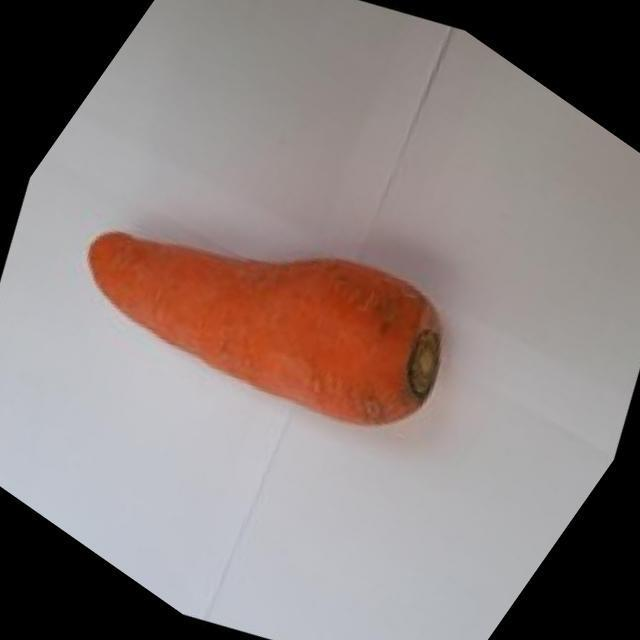carrot: (89, 232, 439, 424)
